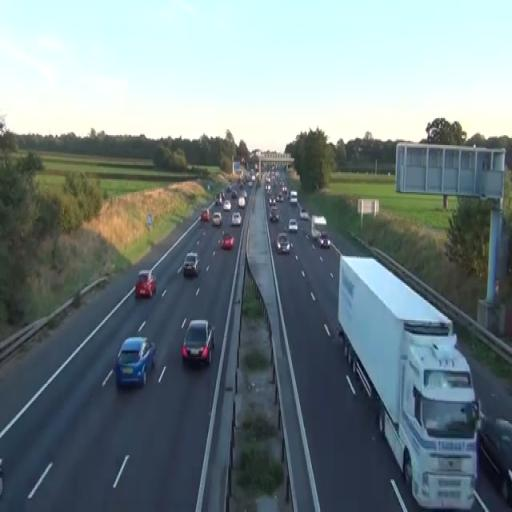Car: (479, 417, 512, 505), (115, 336, 156, 388), (181, 319, 214, 367), (135, 269, 157, 298), (183, 252, 200, 277), (276, 232, 290, 254), (221, 235, 234, 250), (230, 212, 242, 226), (212, 211, 222, 227), (288, 218, 298, 232), (200, 209, 210, 223)
Truck: (336, 256, 481, 508)
